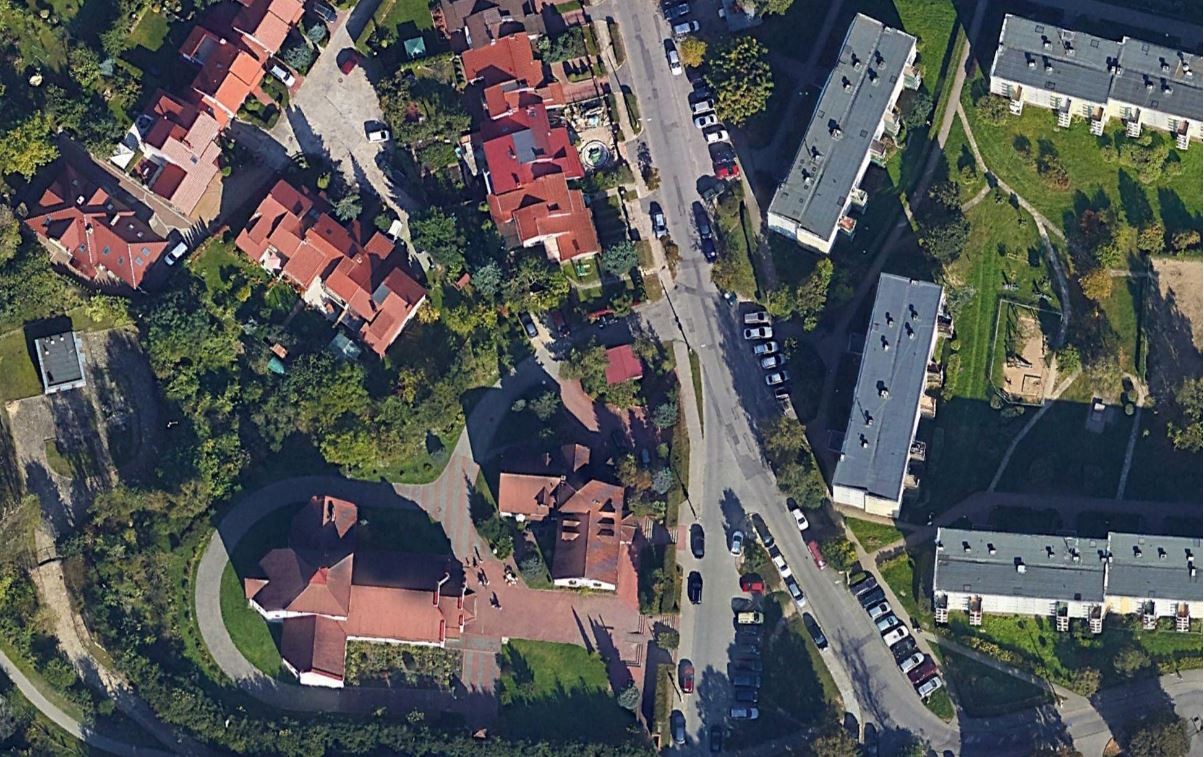block of flats: (759, 9, 932, 264), (906, 512, 1204, 654), (821, 267, 963, 527), (976, 9, 1204, 164)
church: (227, 470, 494, 697)
family house: (491, 430, 643, 597)
terrace house: (422, 1, 653, 279), (85, 1, 345, 222), (226, 174, 432, 367), (27, 164, 175, 299)
